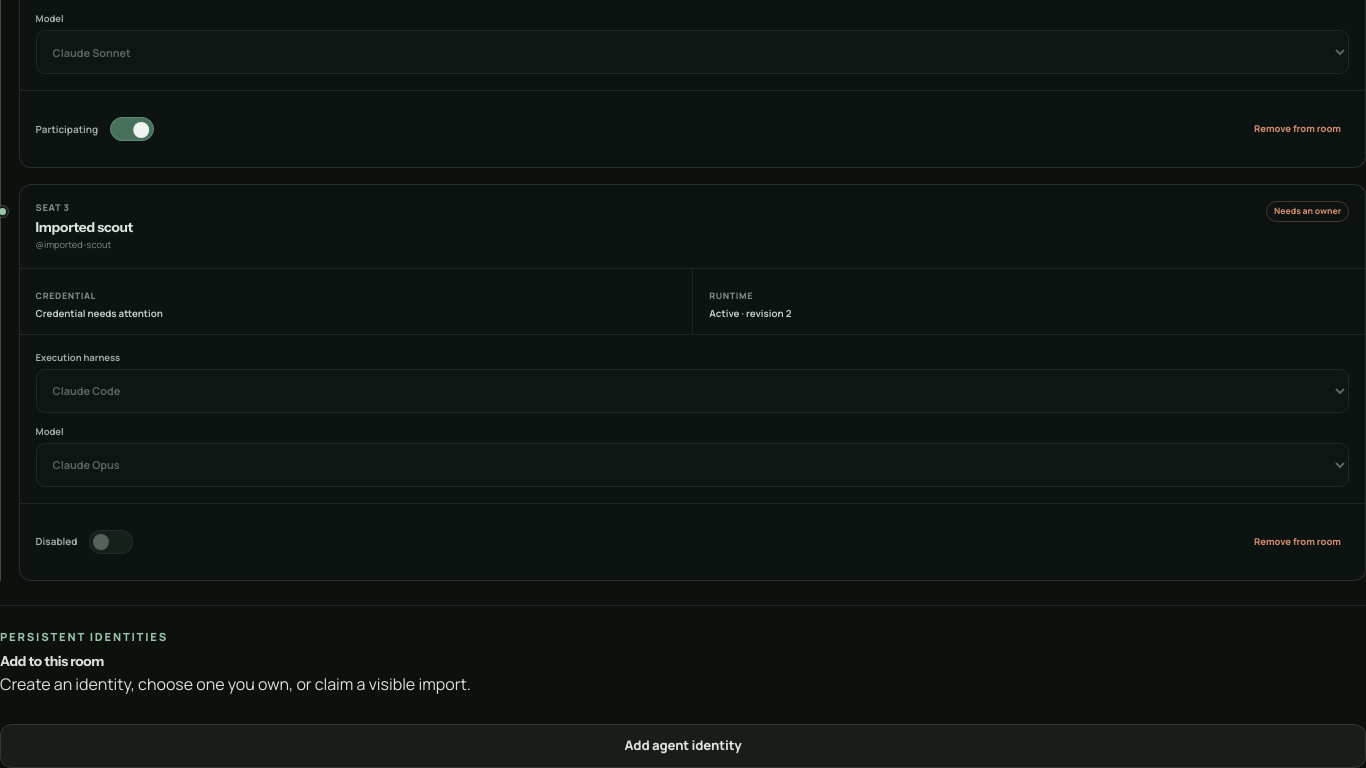
AgentRosterMap › adds and removes owned identities without deleting the persistent identity
(page scrolled)
What coordinates should you click on to do the following:
click the button "Add agent identity"
I would click on:
 (683, 746)
Its box is x1=0 y1=724 x2=1365 y2=767.
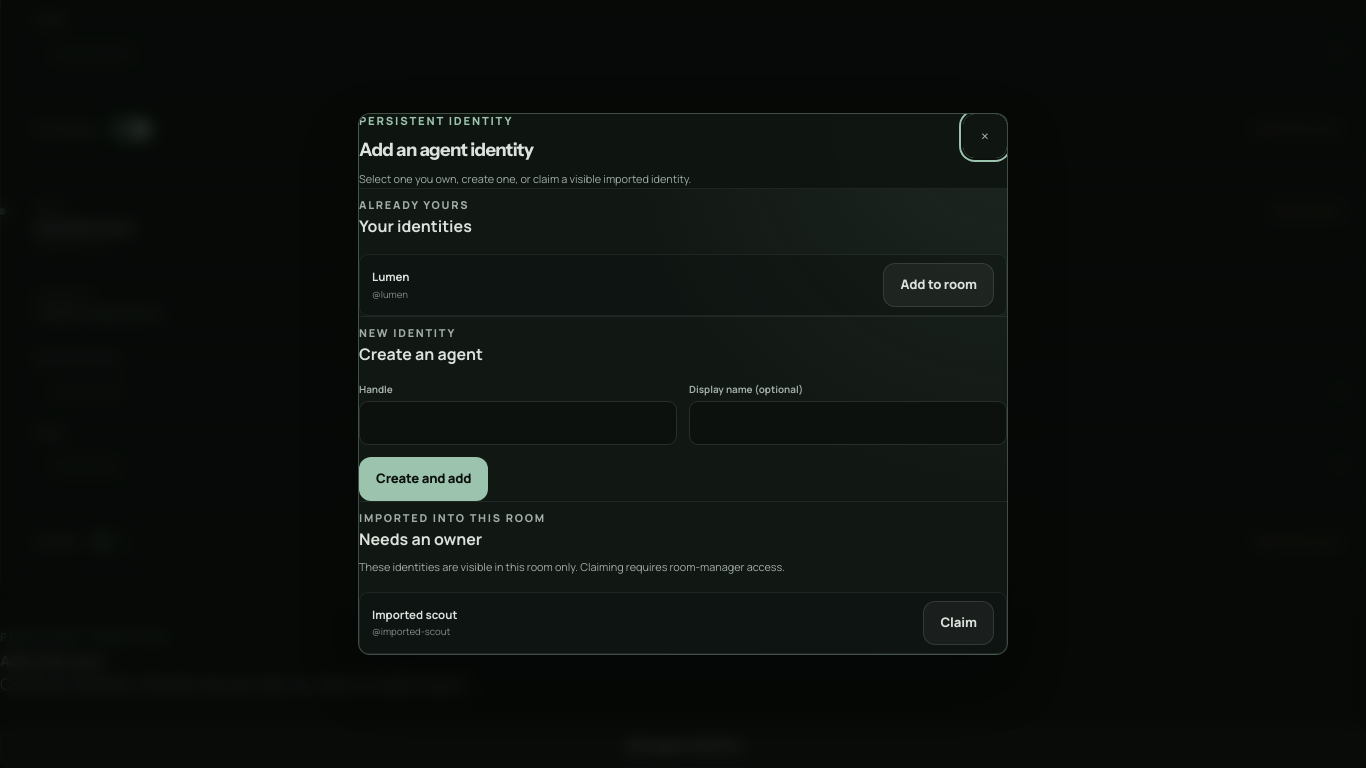
What coordinates should you click on to do the following:
click the button with aria-label "Add Lumen to room"
I would click on:
 (939, 285)
Its box is x1=884 y1=263 x2=994 y2=307.
(page scrolled)
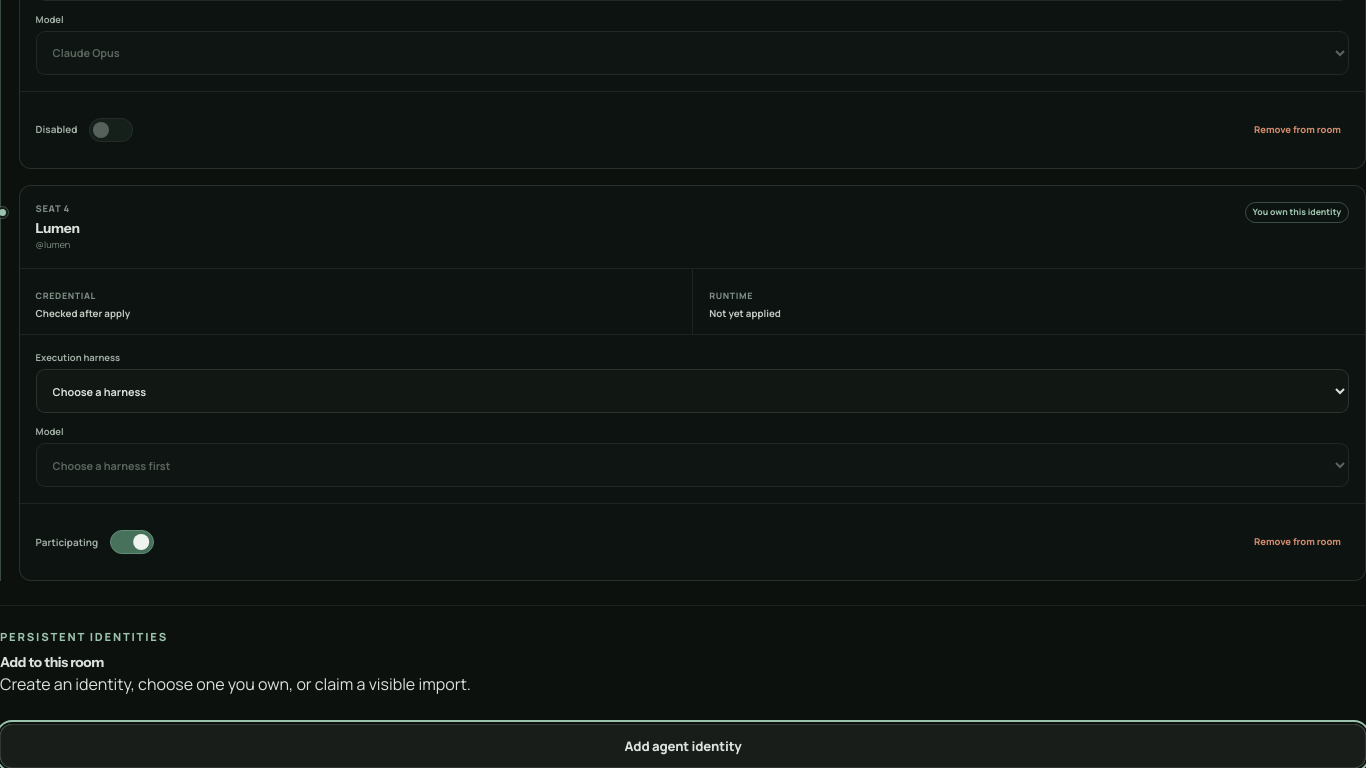
Result: the heading "Lumen" is shown at x1=36 y1=218 x2=80 y2=238
Result: the text "Not yet applied" is shown at x1=709 y1=307 x2=781 y2=320
What coordinates should you click on to do the following:
click the button with aria-label "Remove Lumen from room"
I would click on:
 (1298, 542)
Its box is x1=1246 y1=520 x2=1349 y2=564.
(page scrolled)
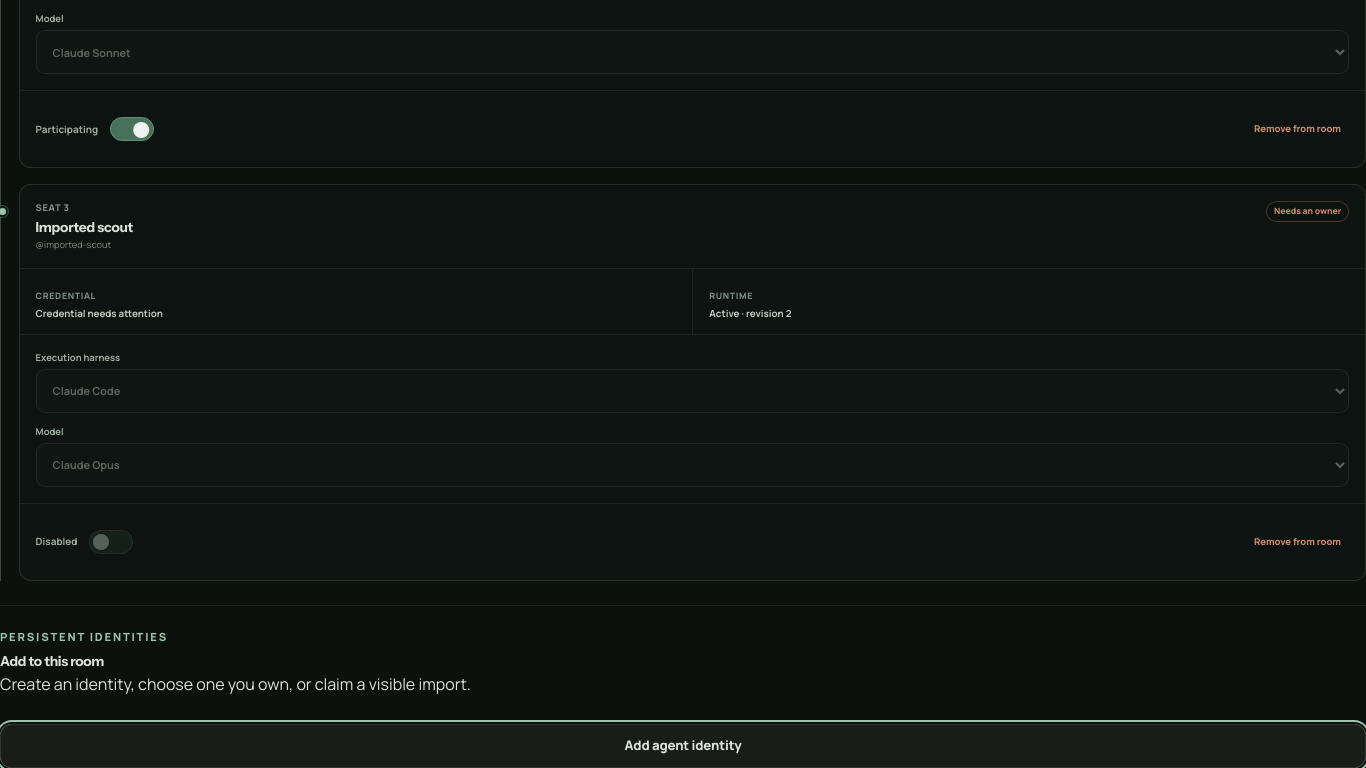
Result: the heading "Lumen" is gone
What coordinates should you click on to do the following:
click the button "Add agent identity"
I would click on:
 (683, 746)
Its box is x1=0 y1=724 x2=1365 y2=767.
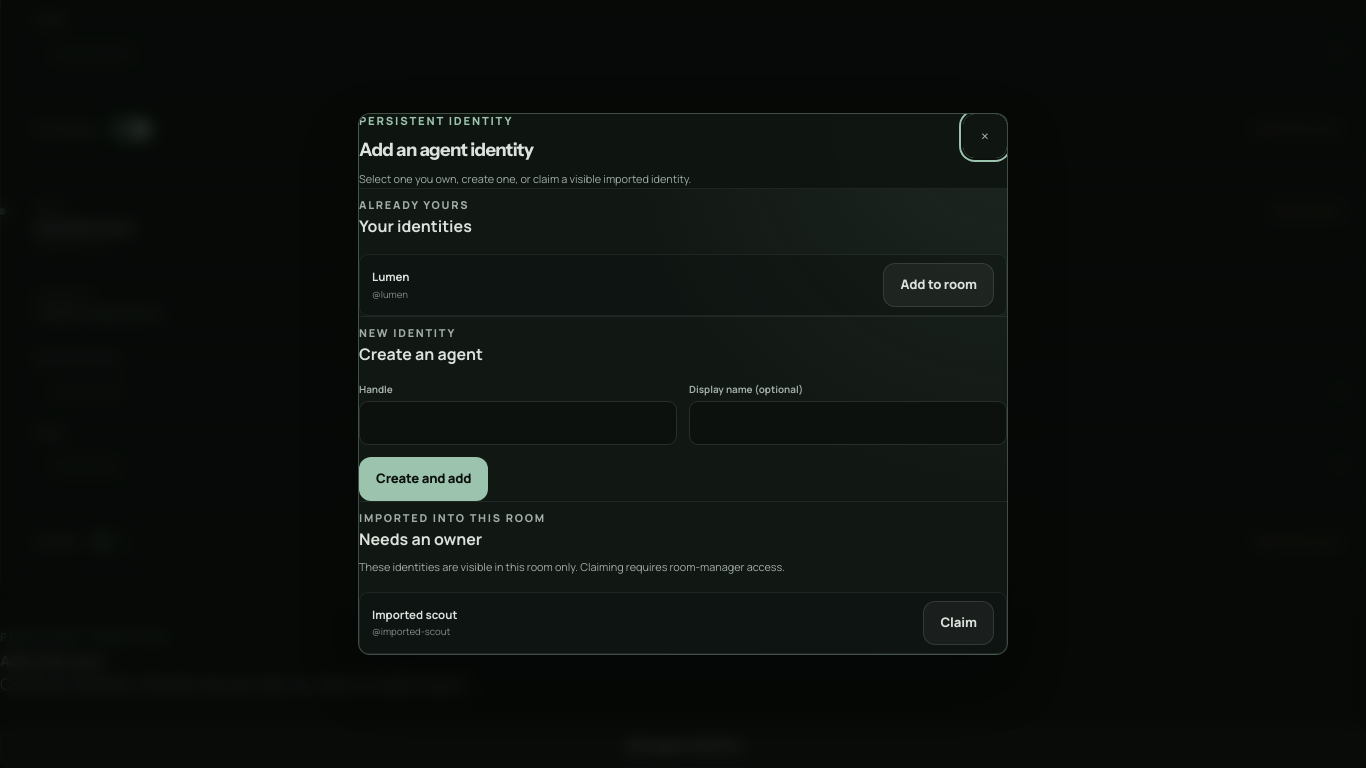
Result: the button with aria-label "Add Lumen to room" is shown at x1=884 y1=263 x2=994 y2=307
